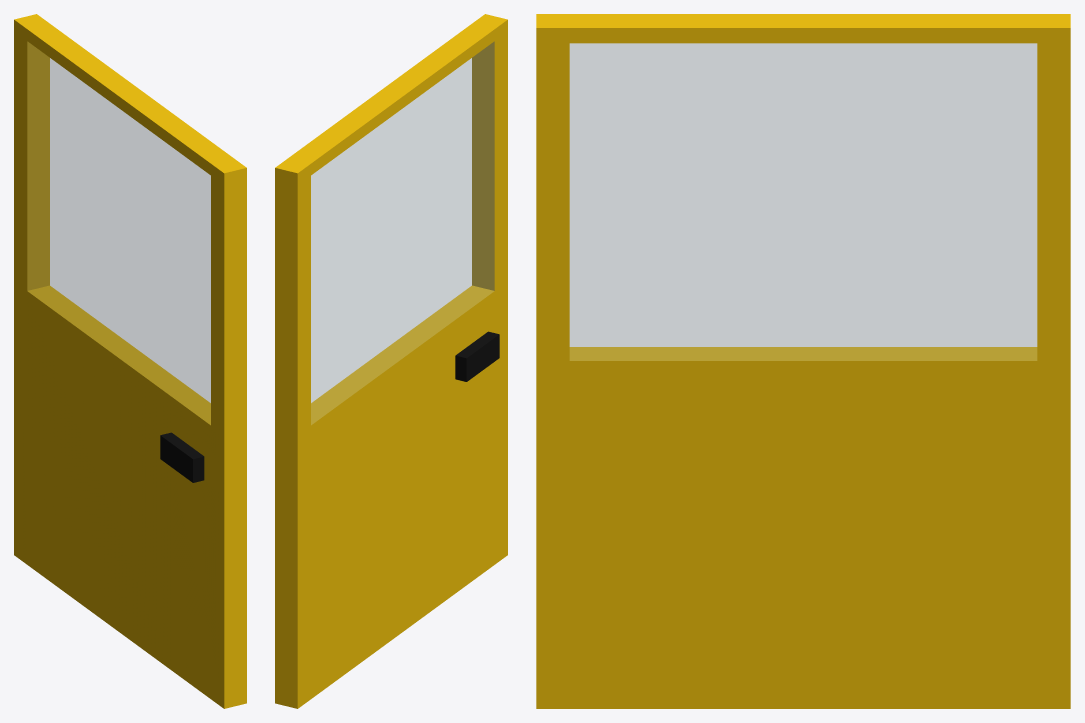
Rendered from school_bus_rear_door.glb.
The picture shows the model from 3 angles, left to right: view 1: azimuth 30°, elevation 25°; view 2: azimuth 150°, elevation 25°; view 3: azimuth 270°, elevation 25°; orthographic projection. The views are drawn at different scales.
Parts seen in each view (by area): view 1: body:compound; view 2: body:compound; view 3: body:compound.
Boxes of the visible parts, x1,y1,x2,y2 form: body:compound: [14, 14, 246, 708]; body:compound: [275, 14, 507, 708]; body:compound: [536, 14, 1070, 708].
Bounding box in the file's own units: 0.0938 × 1.41 × 1.
